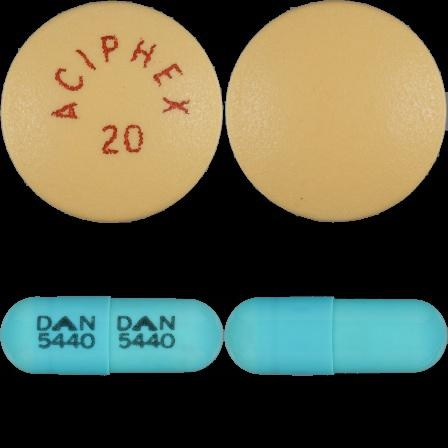55154-2451: (0, 0, 224, 224)
